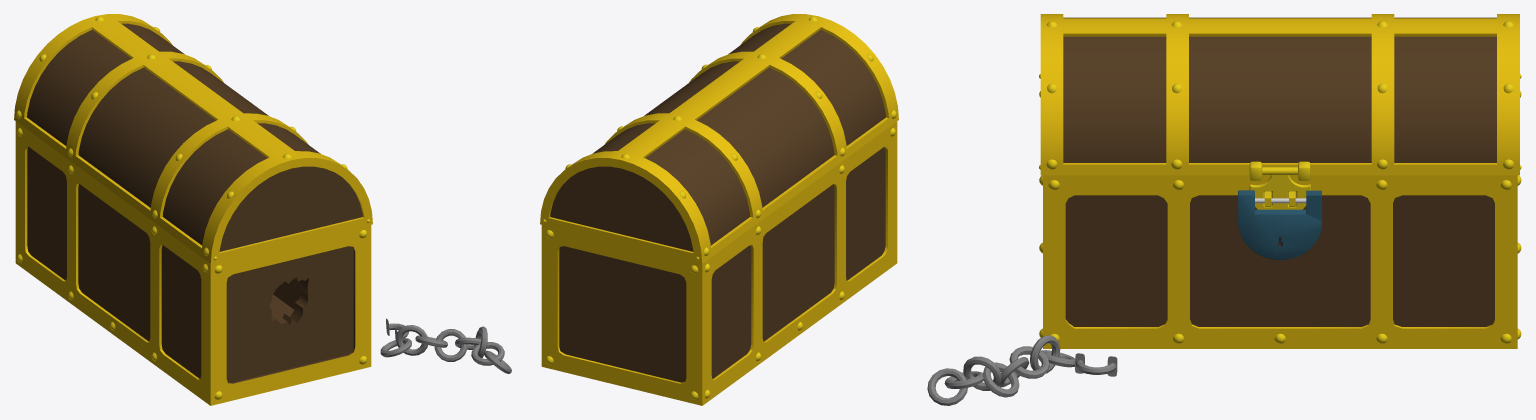
File: treasurebox01_1_m_hole.fbx
The picture shows the model from 3 angles, left to right: view 1: azimuth 30°, elevation 25°; view 2: azimuth 150°, elevation 25°; view 3: azimuth 270°, elevation 25°; orthographic projection. The views are drawn at different scales.
Visible parts, largest first — view 1: UnderBox, Flap, Rings, Pin_Flap, Pin_Under; view 2: UnderBox, Flap, Pin_Flap, Pin_Under; view 3: UnderBox, Flap, Rings, Lock, Latch, Pin_Under, Pin_Flap.
Boxes of the visible parts, x1,y1,x2,y2 form: UnderBox: (15,121,371,405); Flap: (14,14,372,263); Rings: (380,318,511,373); Pin_Flap: (16,16,370,260); Pin_Under: (17,128,367,399); UnderBox: (541,121,897,405); Flap: (540,14,898,263); Pin_Flap: (543,16,896,260); Pin_Under: (545,127,895,399); UnderBox: (1043,175,1517,348); Flap: (1040,14,1519,175); Rings: (927,335,1117,405); Lock: (1238,190,1321,259); Latch: (1249,167,1310,209); Pin_Under: (1039,91,1521,343); Pin_Flap: (1039,21,1521,169).
Size of the model in its own units: 327 by 273 by 526.
